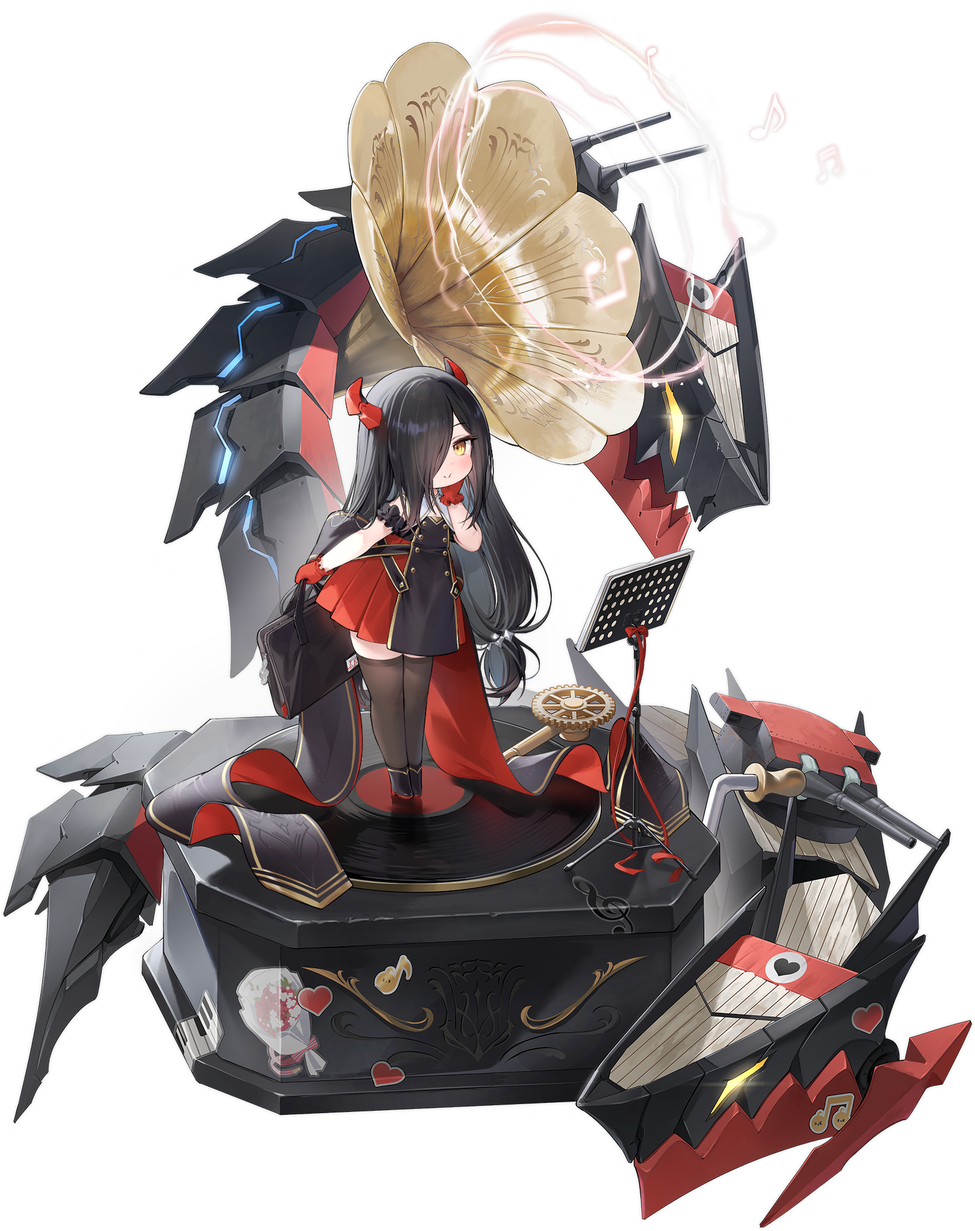person: (258, 338, 595, 901)
